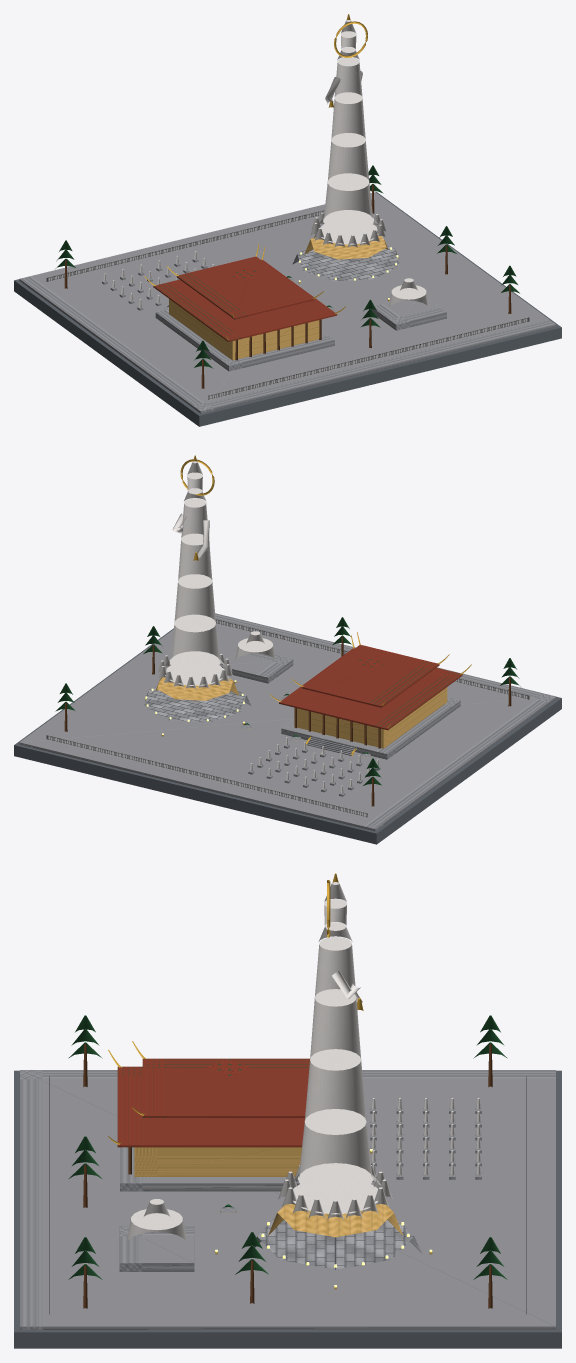
The model's file is ultra_lm_24_chua_linh_an_thac_voi.glb.
3 renders of one model, top to bottom at view 1: azimuth 30°, elevation 25°; view 2: azimuth 150°, elevation 25°; view 3: azimuth 270°, elevation 25°, orthographic. The views are drawn at different scales.
Parts seen in each view (by area): view 1: Courtyard_And_SteppedTerraces, Guanyin71m_Maitreya_And_TinhThanh_Statues, MainSanctuary_TwoTier_CurvedRoofs, FoundationSkirt_Minus3m, MainSanctuary_Walls_And_Pedestals, Terrace_Balustrades, NamBan_PineForest_And_Bonsai, Ironwood_Columns; view 2: Courtyard_And_SteppedTerraces, Guanyin71m_Maitreya_And_TinhThanh_Statues, MainSanctuary_TwoTier_CurvedRoofs, FoundationSkirt_Minus3m, MainSanctuary_Walls_And_Pedestals, Terrace_Balustrades, NamBan_PineForest_And_Bonsai, Ironwood_Columns, GildedHalo_Dragons_And_Finials; view 3: Courtyard_And_SteppedTerraces, Guanyin71m_Maitreya_And_TinhThanh_Statues, MainSanctuary_TwoTier_CurvedRoofs, FoundationSkirt_Minus3m, MainSanctuary_Walls_And_Pedestals, NamBan_PineForest_And_Bonsai, Ironwood_Columns.
Boxes of the visible parts, x1,y1,x2,y2 form: Courtyard_And_SteppedTerraces: (19, 192, 556, 413); Guanyin71m_Maitreya_And_TinhThanh_Statues: (103, 20, 429, 307); MainSanctuary_TwoTier_CurvedRoofs: (153, 256, 337, 341); FoundationSkirt_Minus3m: (14, 192, 561, 426); MainSanctuary_Walls_And_Pedestals: (165, 236, 398, 360); Terrace_Balustrades: (46, 210, 529, 399); NamBan_PineForest_And_Bonsai: (55, 165, 519, 368); Ironwood_Columns: (64, 184, 511, 388); Courtyard_And_SteppedTerraces: (19, 613, 556, 831); Guanyin71m_Maitreya_And_TinhThanh_Statues: (157, 461, 378, 793); MainSanctuary_TwoTier_CurvedRoofs: (279, 645, 462, 730); FoundationSkirt_Minus3m: (14, 628, 561, 844); MainSanctuary_Walls_And_Pedestals: (145, 677, 447, 757); Terrace_Balustrades: (46, 619, 529, 817); NamBan_PineForest_And_Bonsai: (55, 617, 521, 785); Ironwood_Columns: (64, 636, 511, 806); GildedHalo_Dragons_And_Finials: (180, 455, 471, 755); Courtyard_And_SteppedTerraces: (20, 1070, 555, 1329); Guanyin71m_Maitreya_And_TinhThanh_Statues: (126, 882, 480, 1241); MainSanctuary_TwoTier_CurvedRoofs: (117, 1058, 309, 1147); FoundationSkirt_Minus3m: (14, 1070, 561, 1348); MainSanctuary_Walls_And_Pedestals: (134, 1147, 432, 1289); NamBan_PineForest_And_Bonsai: (68, 1015, 507, 1279); Ironwood_Columns: (83, 1044, 492, 1308).
Size of the model in its own units: 104 by 74 by 92.
Materials: 10 (4 with a texture image).
